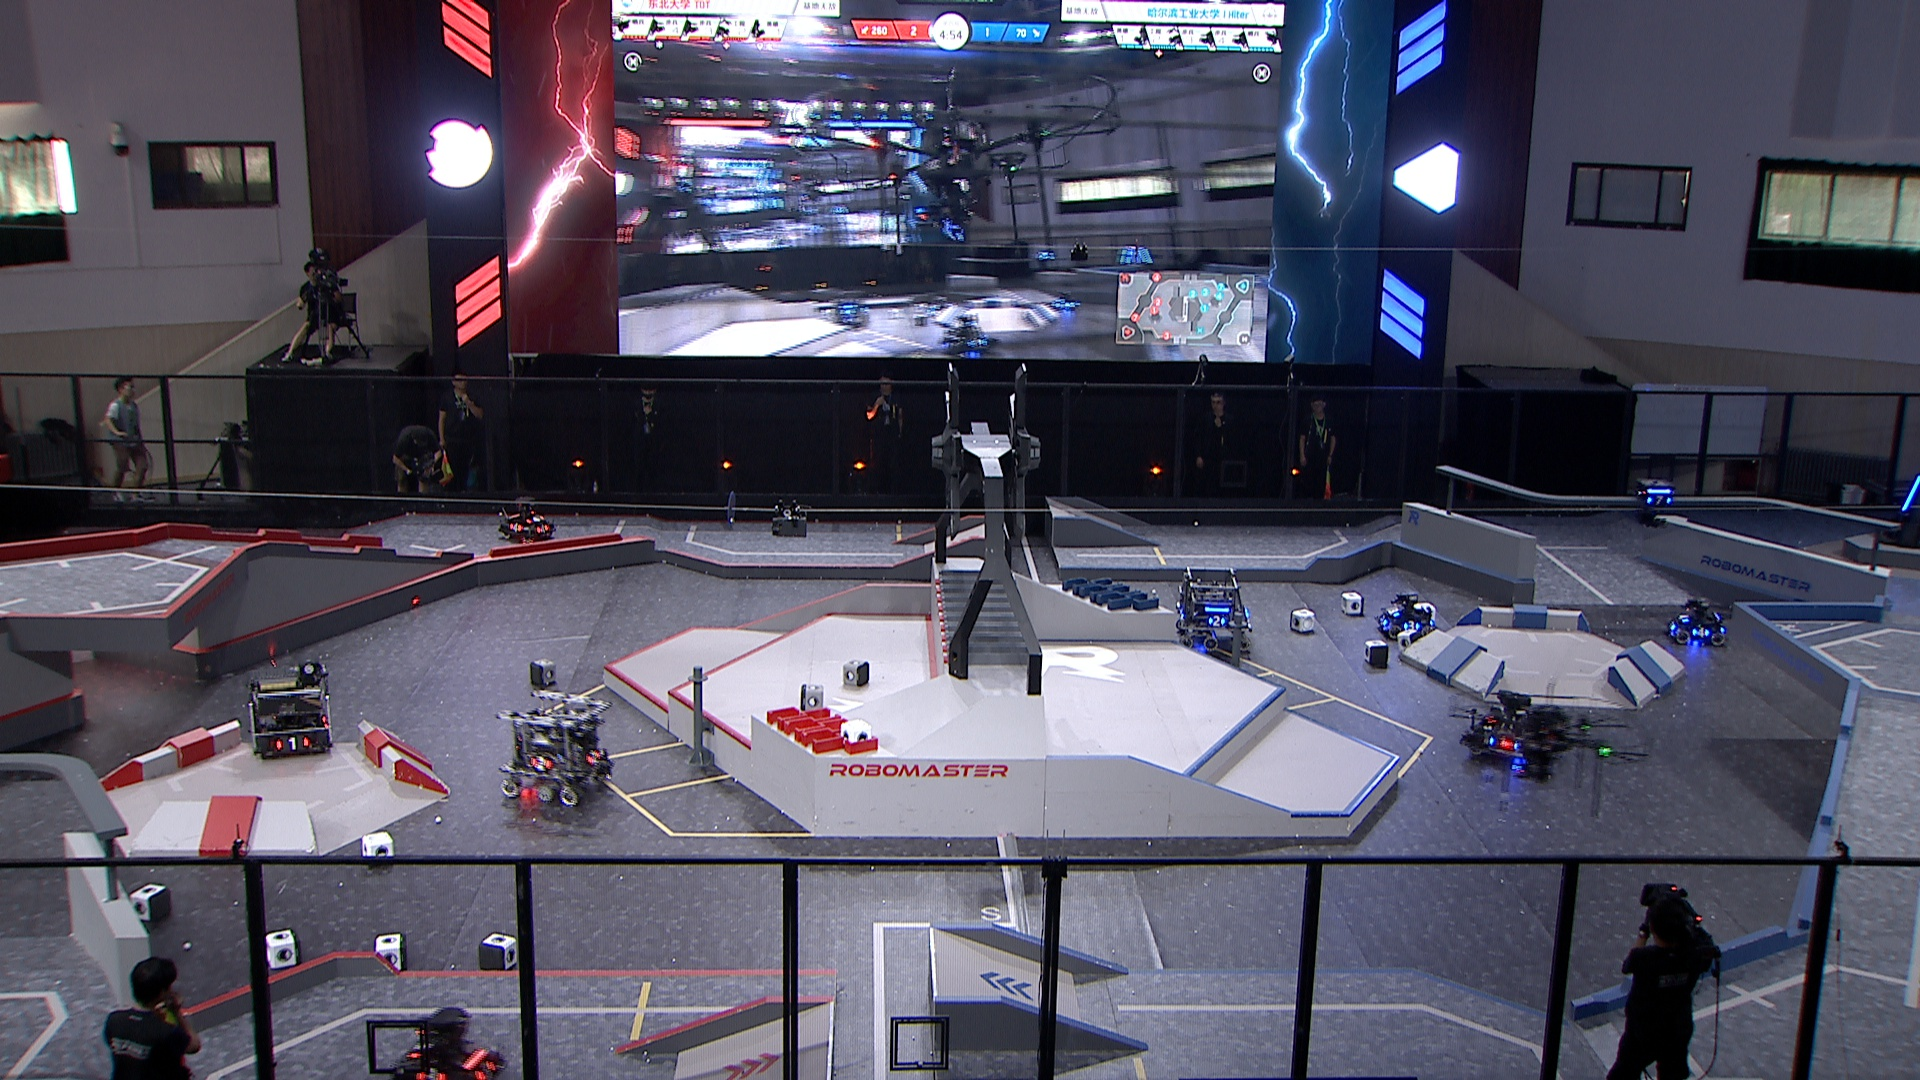armor: (1902, 473, 1920, 514), (1487, 736, 1518, 756), (276, 733, 309, 750), (409, 1034, 427, 1059), (413, 1067, 446, 1080), (476, 1058, 496, 1079), (529, 756, 551, 774), (1646, 493, 1673, 505), (1207, 615, 1226, 629), (1378, 616, 1394, 633), (1403, 618, 1423, 632), (1387, 603, 1403, 618), (1691, 626, 1709, 638), (529, 516, 546, 526), (589, 749, 599, 766), (535, 524, 550, 533), (510, 520, 520, 531), (1677, 613, 1691, 621)
base: (1874, 458, 1920, 553)
car: (495, 684, 615, 807), (245, 662, 338, 756), (1465, 684, 1561, 770), (396, 1006, 501, 1080), (1174, 562, 1253, 654), (498, 495, 560, 550), (1665, 593, 1727, 646), (1375, 588, 1436, 637)
ignore: (942, 315, 992, 353), (831, 291, 866, 324), (1120, 243, 1155, 272), (1054, 291, 1079, 310), (1035, 245, 1055, 261)
watcher: (1627, 473, 1676, 529)
